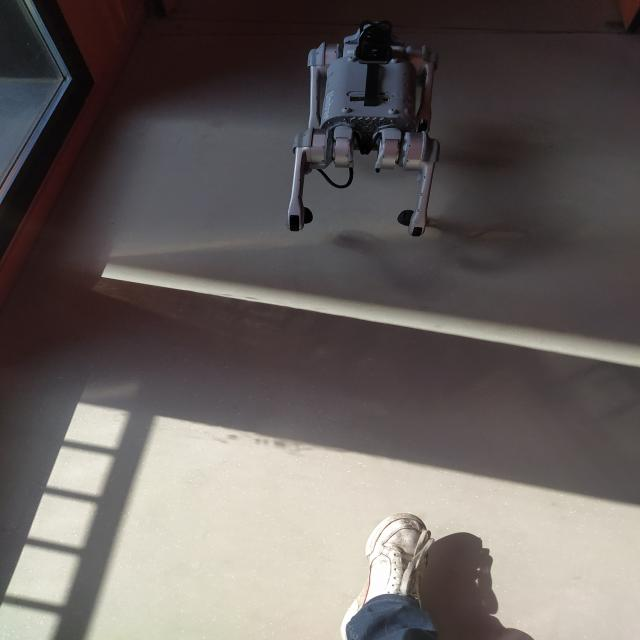unitree-go1-robot: (268, 3, 466, 262)
